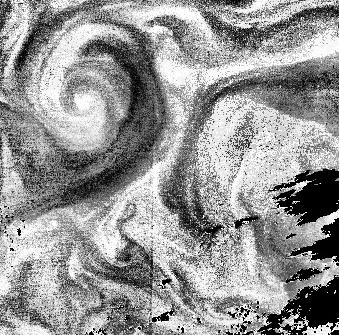CE: (29, 19, 159, 156)
